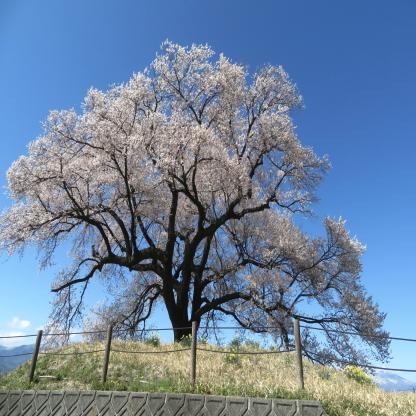EdohiganSakura: (0, 37, 393, 375)
